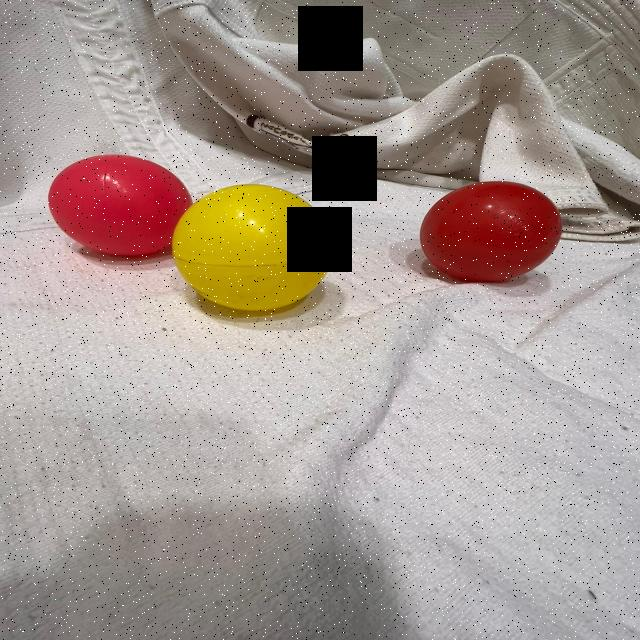ball: (167, 182, 342, 313), (417, 179, 574, 285), (44, 152, 180, 259)
